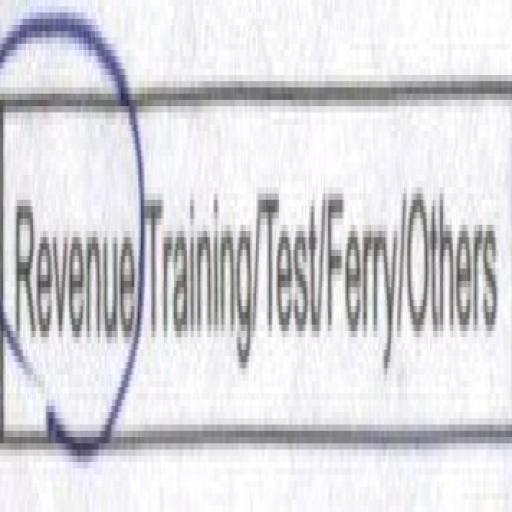check: (0, 0, 142, 456)
